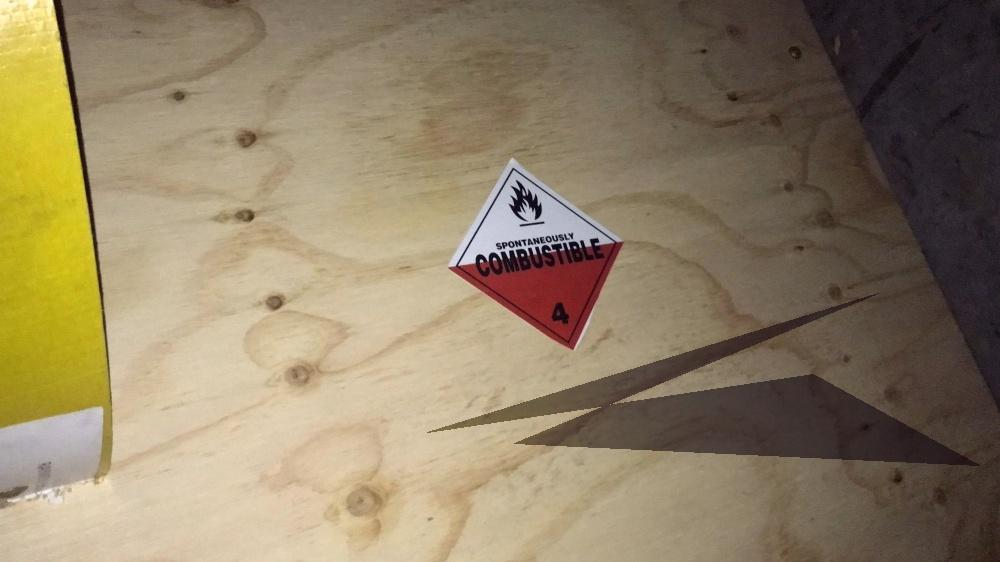spontaneously-combustible: (447, 157, 625, 352)
